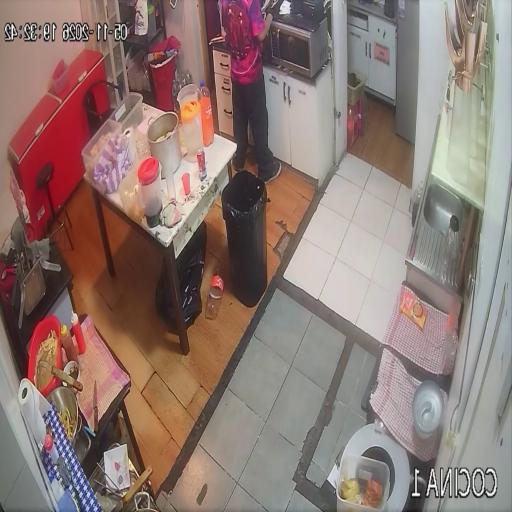Basurero: (222, 170, 267, 307)
Cuchillo1: (93, 380, 98, 434)
Envase Ketchup: (71, 313, 86, 354)
Envase Llajua: (61, 325, 78, 362)
Jarra1: (138, 157, 162, 228)
Jarra2: (179, 99, 203, 161)
Jarra3: (178, 84, 198, 124)
JarraLicuadora: (442, 215, 459, 282)
Microondas: (271, 17, 328, 77)
Persona1: (221, 0, 282, 183)
Tapa1: (412, 381, 444, 439)
Taper: (336, 453, 390, 512)
Taper2: (110, 93, 143, 130)
Taper3: (82, 119, 122, 177)
Vaso1: (182, 173, 190, 195)
olla1: (147, 112, 182, 196)
